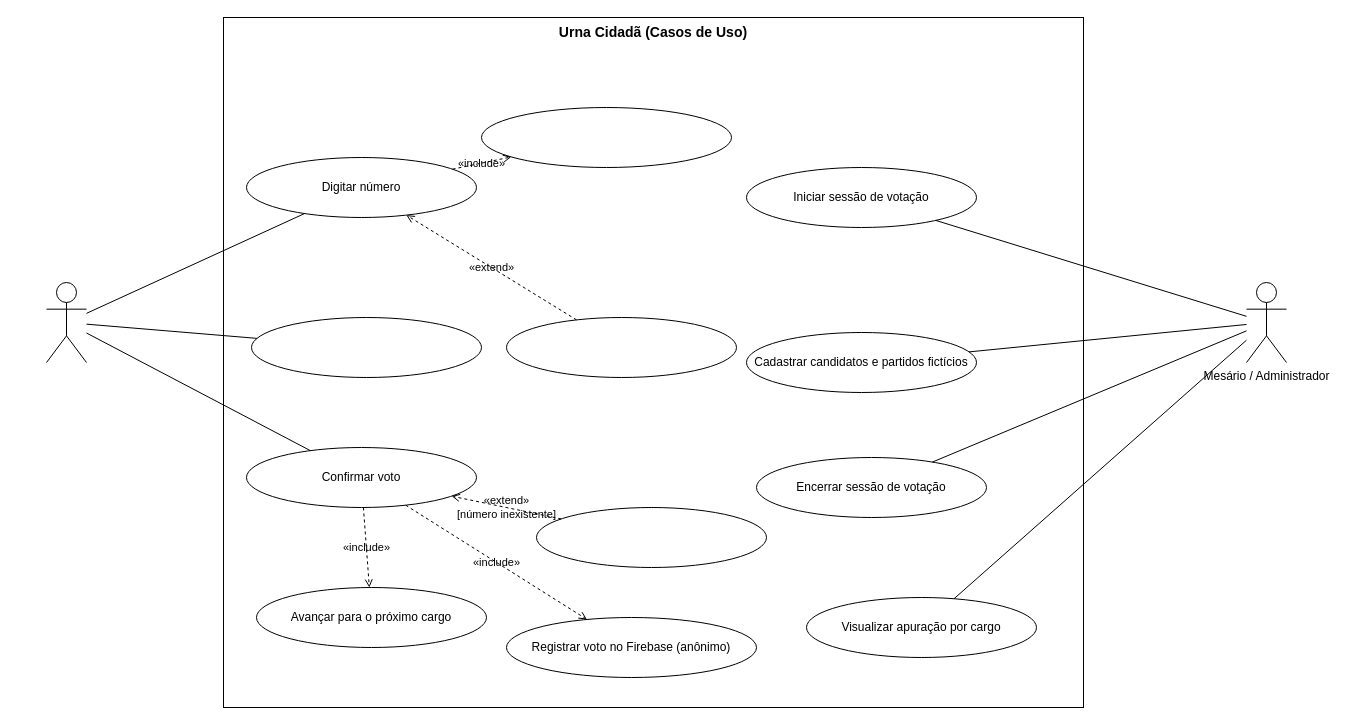
The diagram is 1347 pixels wide and 725 high, and some of its shapes have lost their labels. The shapes that lost their labels are listed below. From the top down, each one's centre as x and y in pixels, then its label:
point (606, 137): Consultar candidato (nome, partido, foto)
point (66, 322): Eleitor (estudante)
point (366, 347): Votar em branco
point (621, 347): Corrigir número digitado
point (651, 537): Registrar voto nulo
